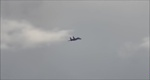maybay_muctieu: (67, 35, 82, 42)
